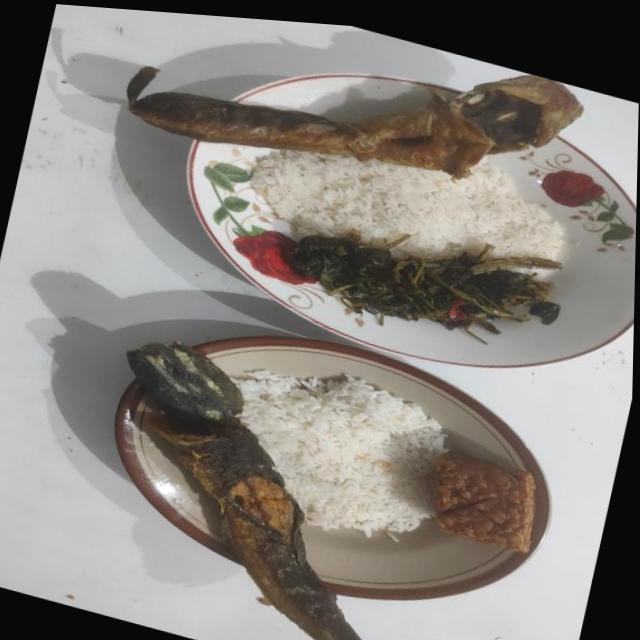nasi_putih: (231, 369, 447, 538), (253, 150, 564, 260)
tempe_goreng: (434, 452, 536, 552)
tumis_kangkung: (292, 236, 561, 334)
